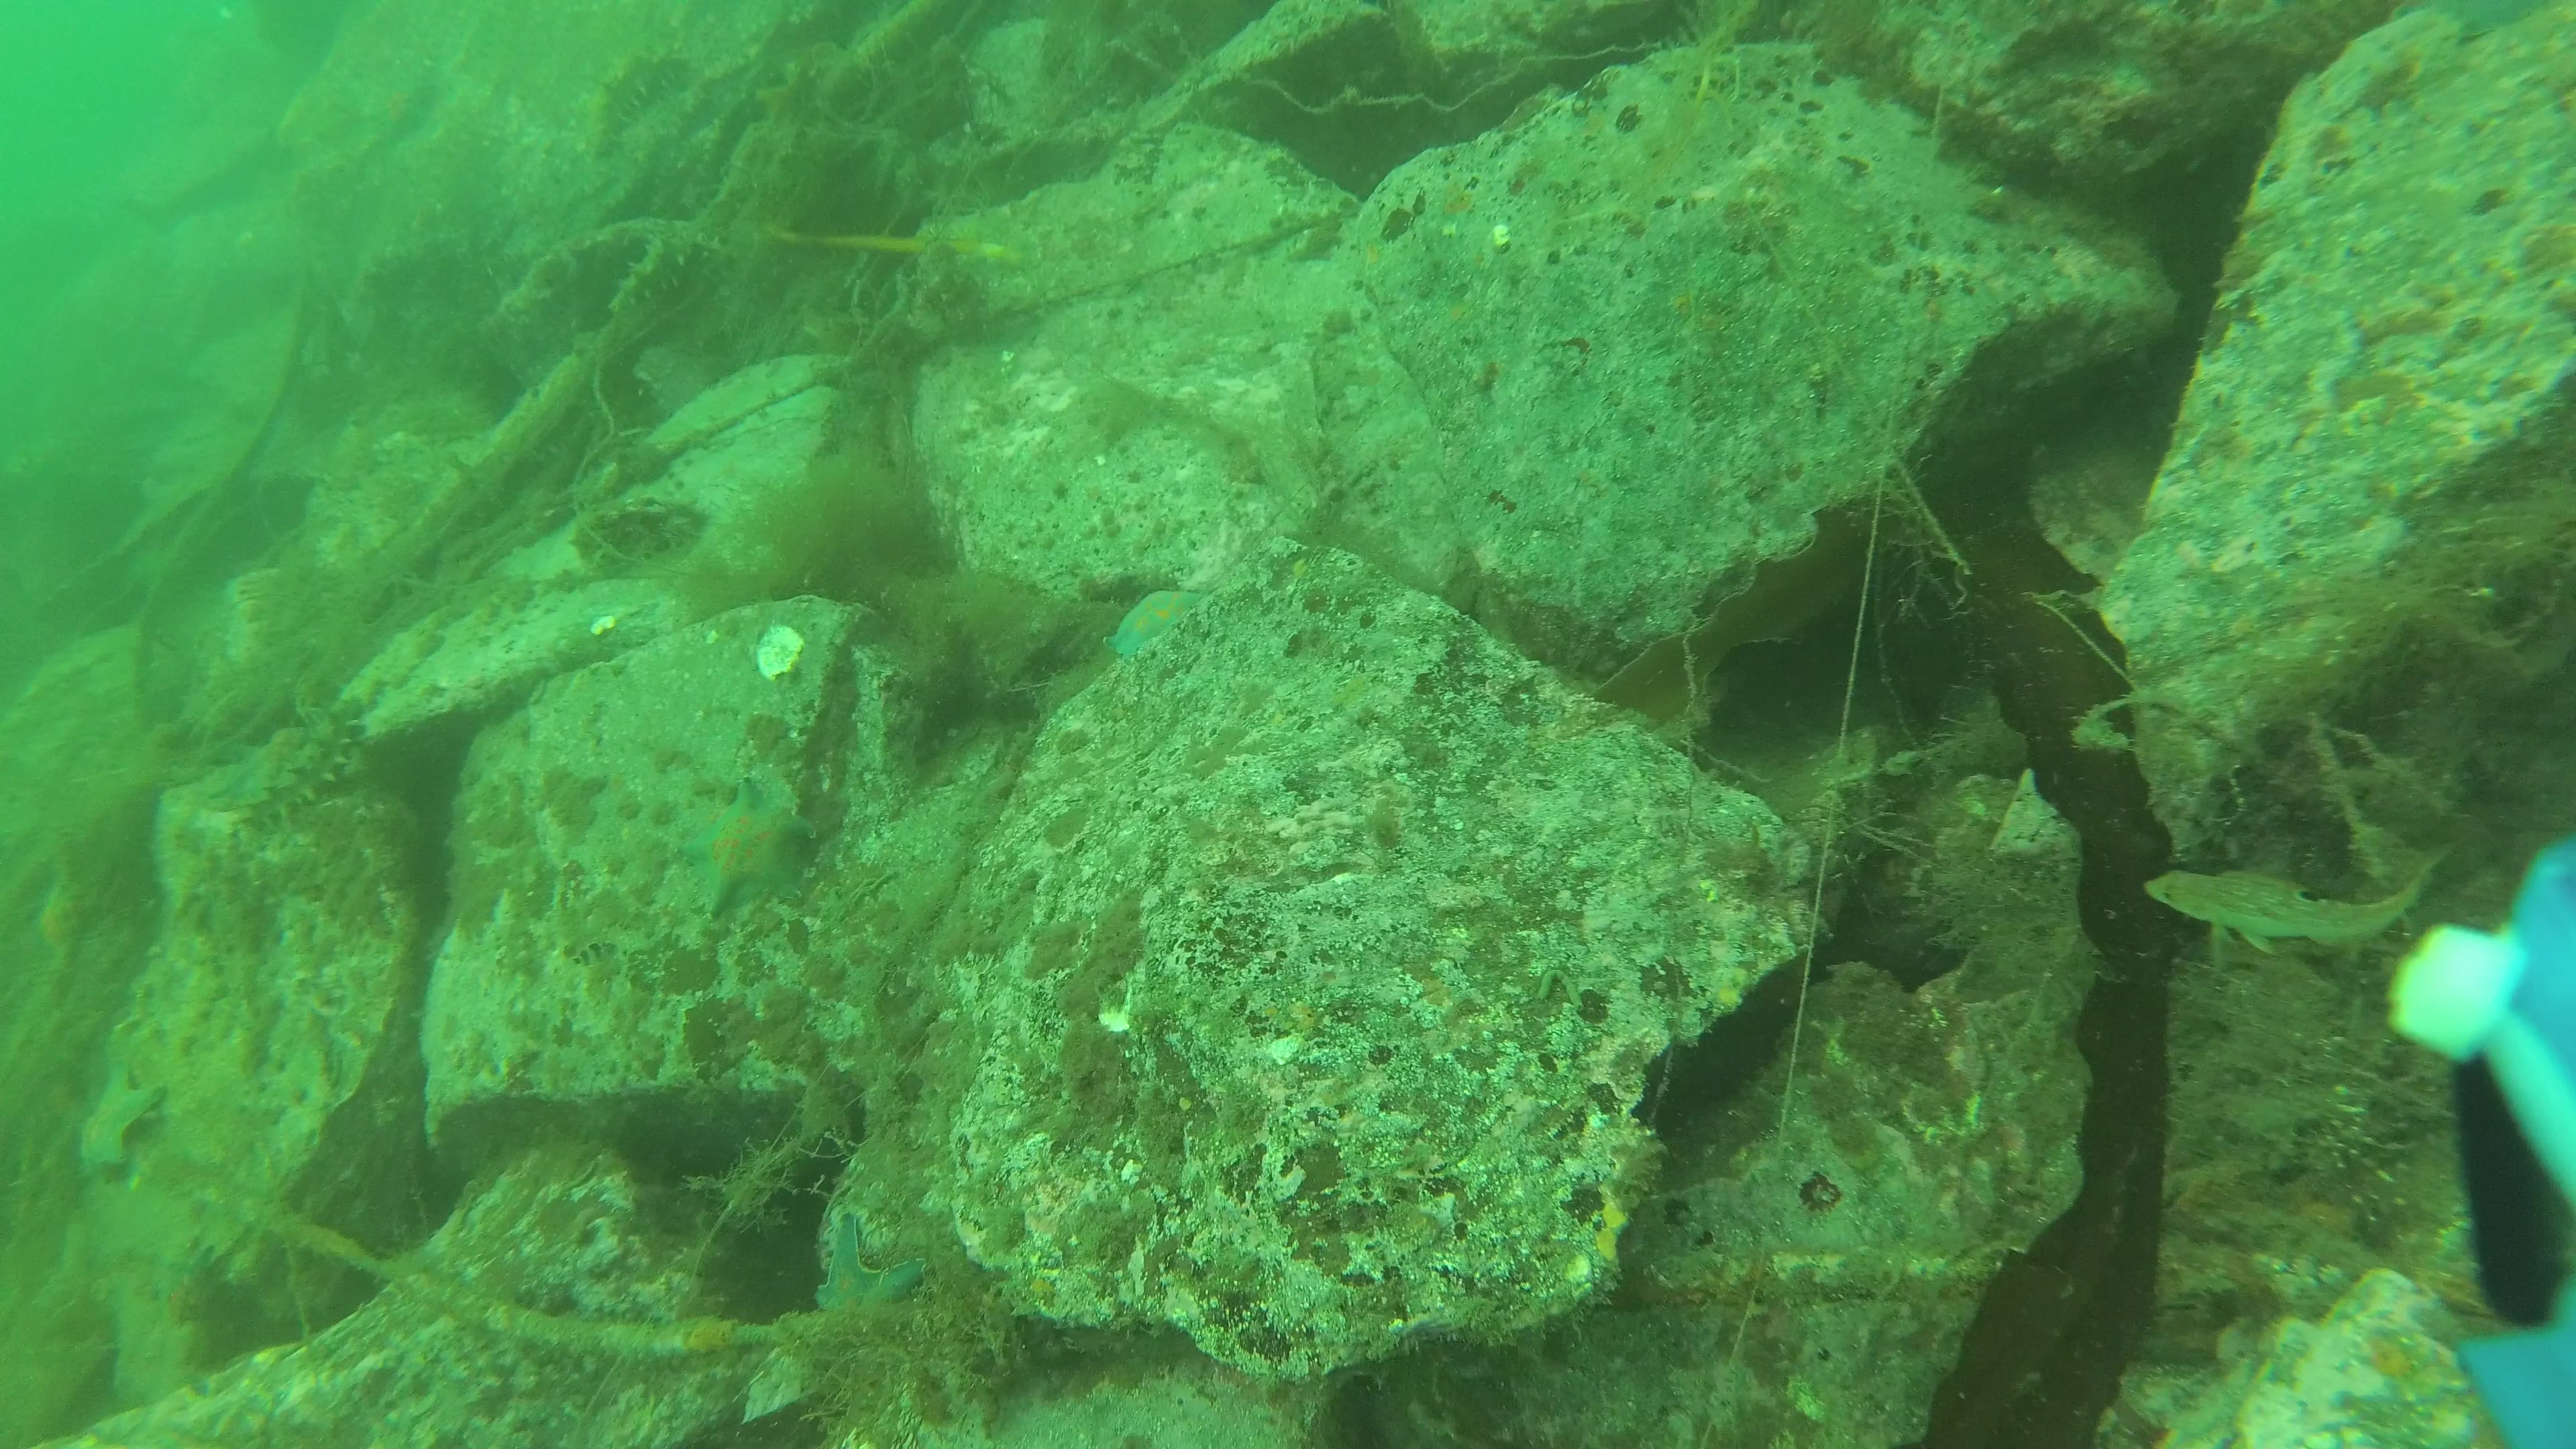starfish: (671, 777, 824, 925), (805, 1212, 932, 1323), (1102, 580, 1208, 663)
